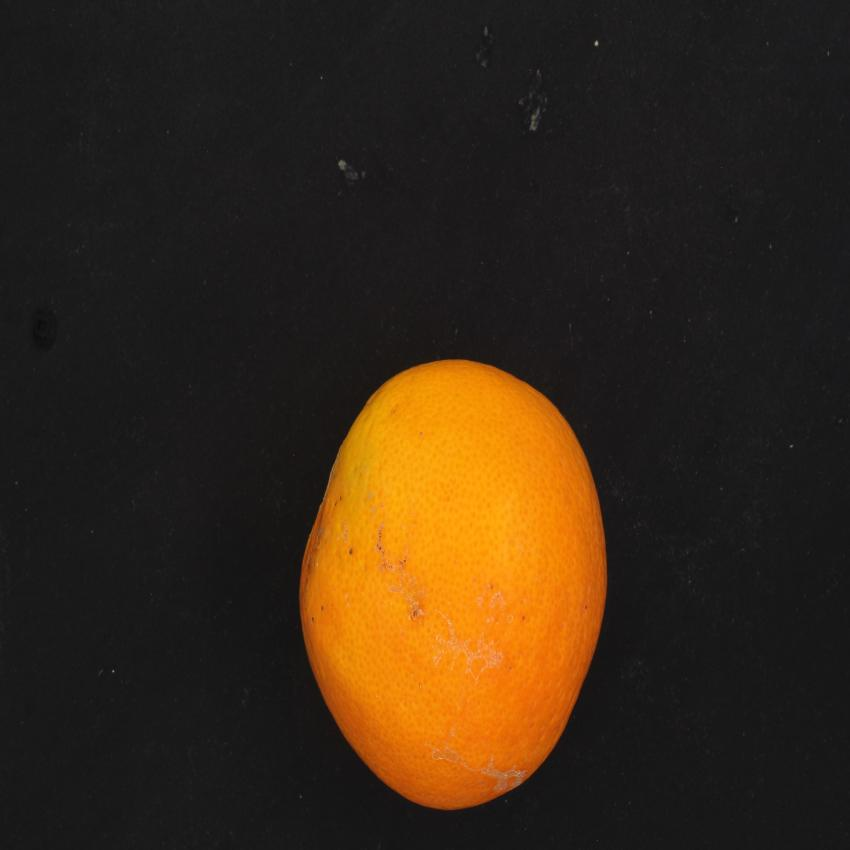Mal estado: (293, 346, 620, 819)
